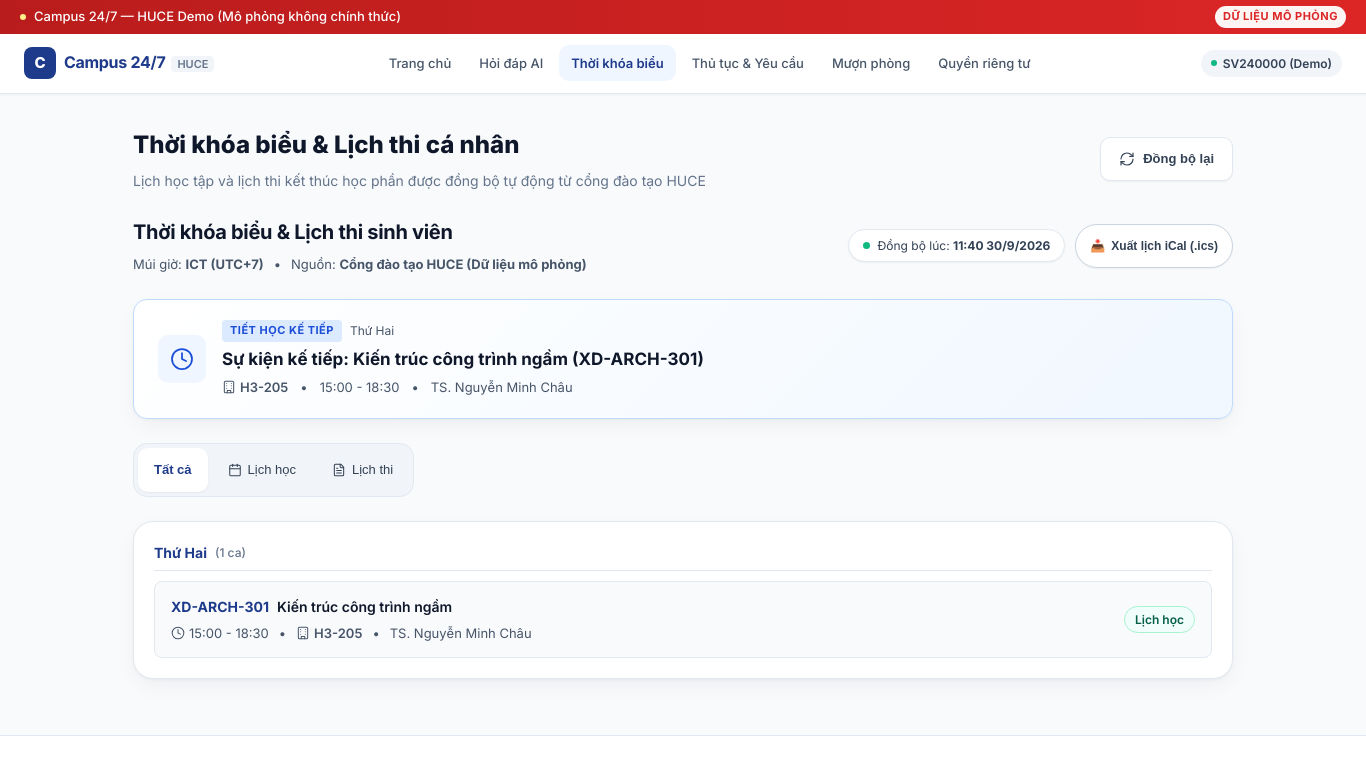
Test: SchedulePage Component - Demo Fallback (TASK-WEB-SCHED-003) › subsequent refresh failure marks data as stale without wiping out verified cached schedule
The width and height of the screenshot is (1366, 763).
Check: the heading "Sự kiện kế tiếp: Kiến trúc công trình ngầm (XD-ARCH-301)" is shown, box [222, 346, 704, 373]
What coordinates should you click on to do the following:
click the button "Đồng bộ lại"
I would click on:
 (1167, 159)
Its box is [1100, 137, 1233, 181].
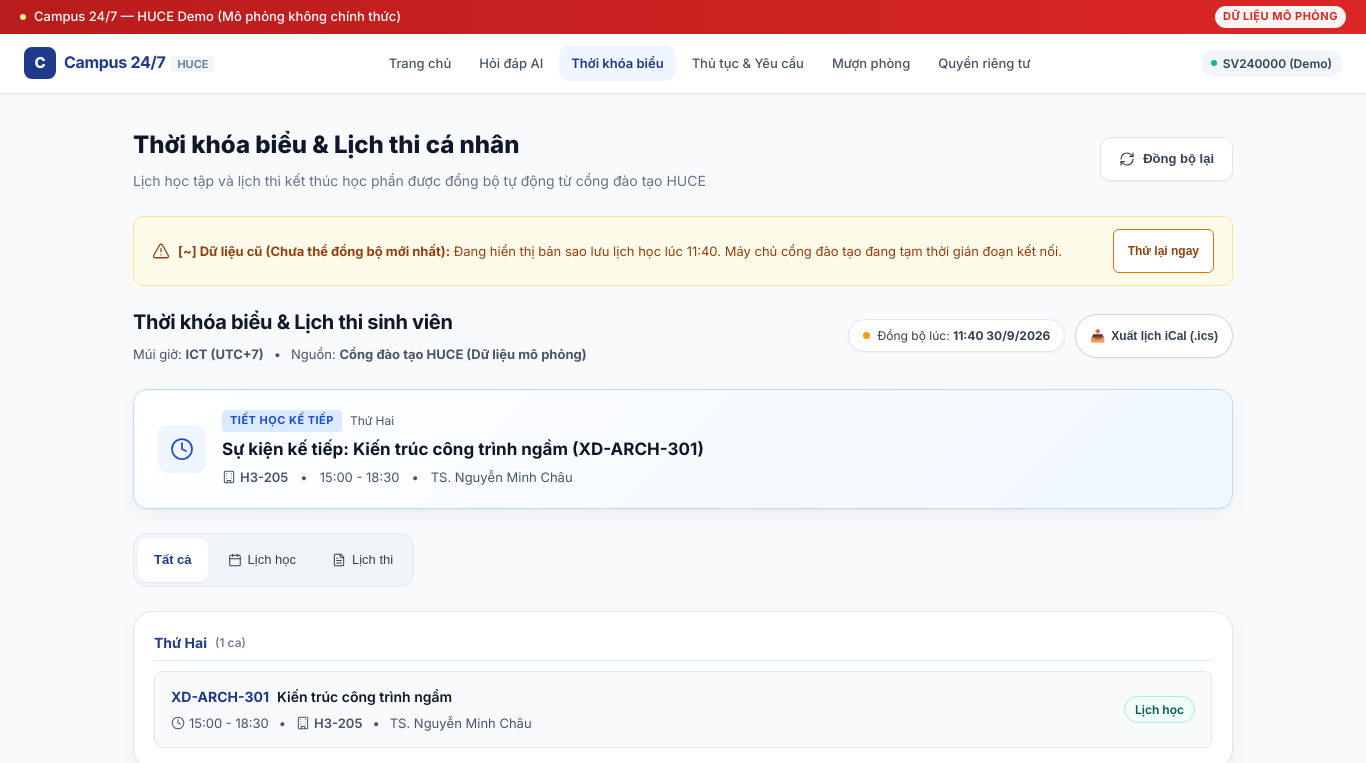
Check: the heading "Sự kiện kế tiếp: Kiến trúc công trình ngầm (XD-ARCH-301)" is shown, box [222, 436, 704, 463]
Check: the text "[~] Dữ liệu cũ (Chưa thể đồng bộ mới nhất):" is shown, box [178, 243, 450, 259]
